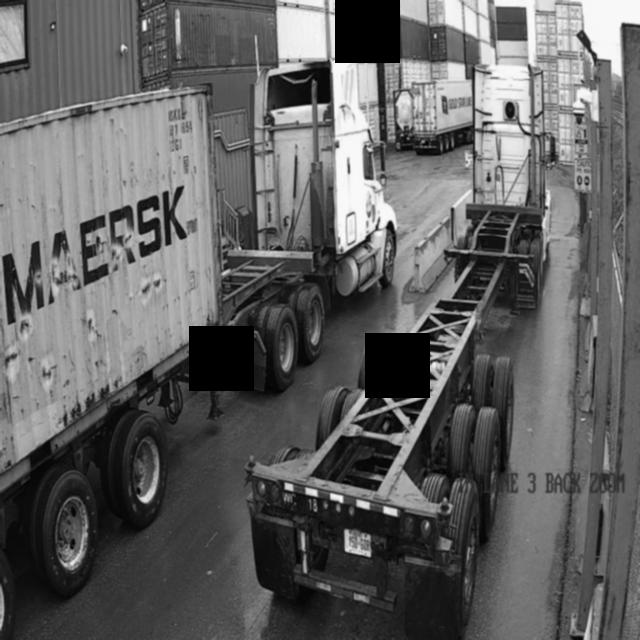container_company_logo: (1, 186, 197, 339)
license_plate: (344, 529, 371, 557)
truck_with_container: (0, 67, 397, 640)
truck_without_container: (246, 64, 551, 640)
